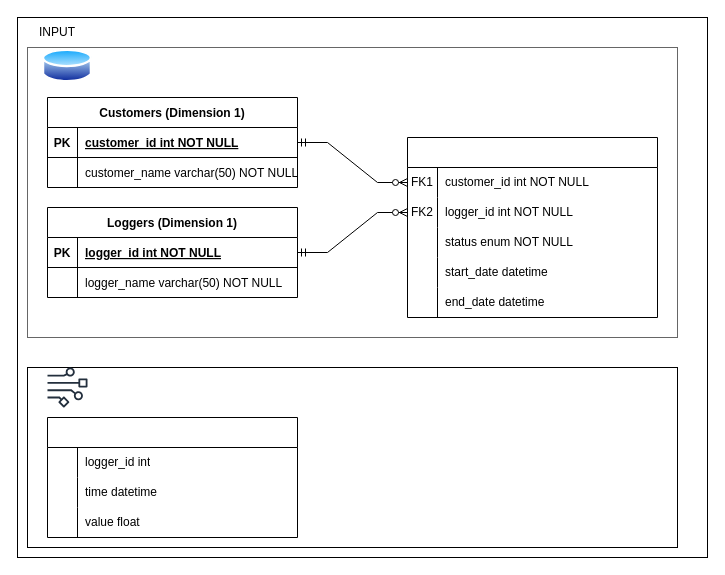
Some shapes in this 725 by 575 pixel diagram are drawn without their labels. Each missing label, with the box of its shape:
Logger_Temperature (Data Stream): (46, 416, 298, 538)
Shipments (Accumulating Shapshot): (406, 136, 658, 318)
